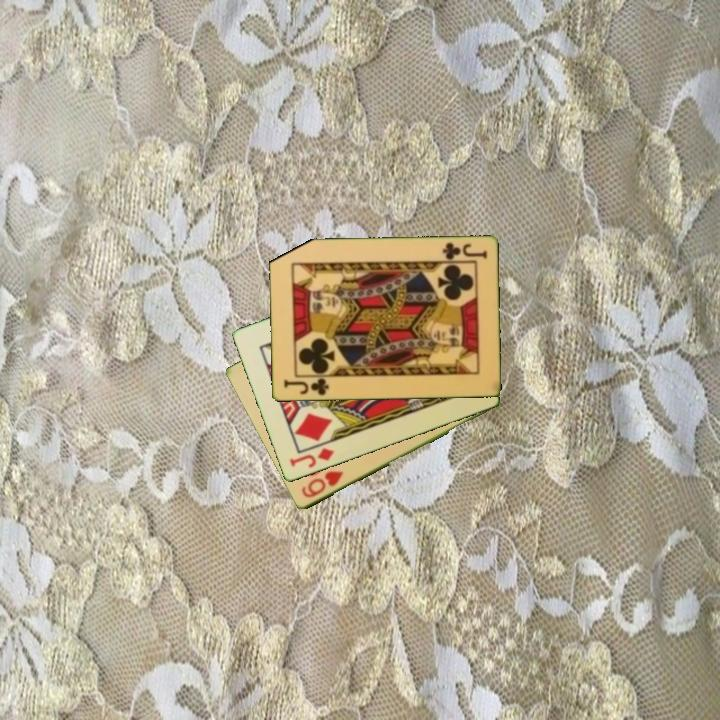6h: (298, 467, 346, 501)
Jc: (280, 375, 331, 398), (439, 239, 490, 262)
Jd: (286, 444, 337, 471)
